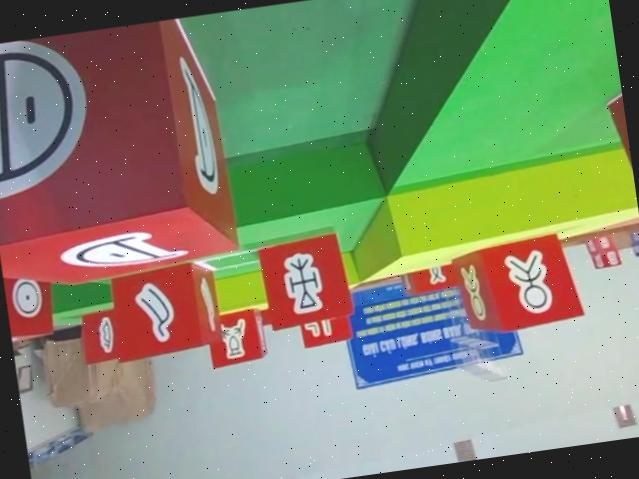R2 Real: (0, 13, 240, 293), (449, 229, 586, 341), (106, 260, 225, 363), (258, 232, 356, 334), (204, 304, 268, 369), (3, 272, 54, 339), (77, 307, 129, 362)
